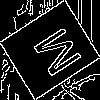M: (24, 25, 83, 85)
